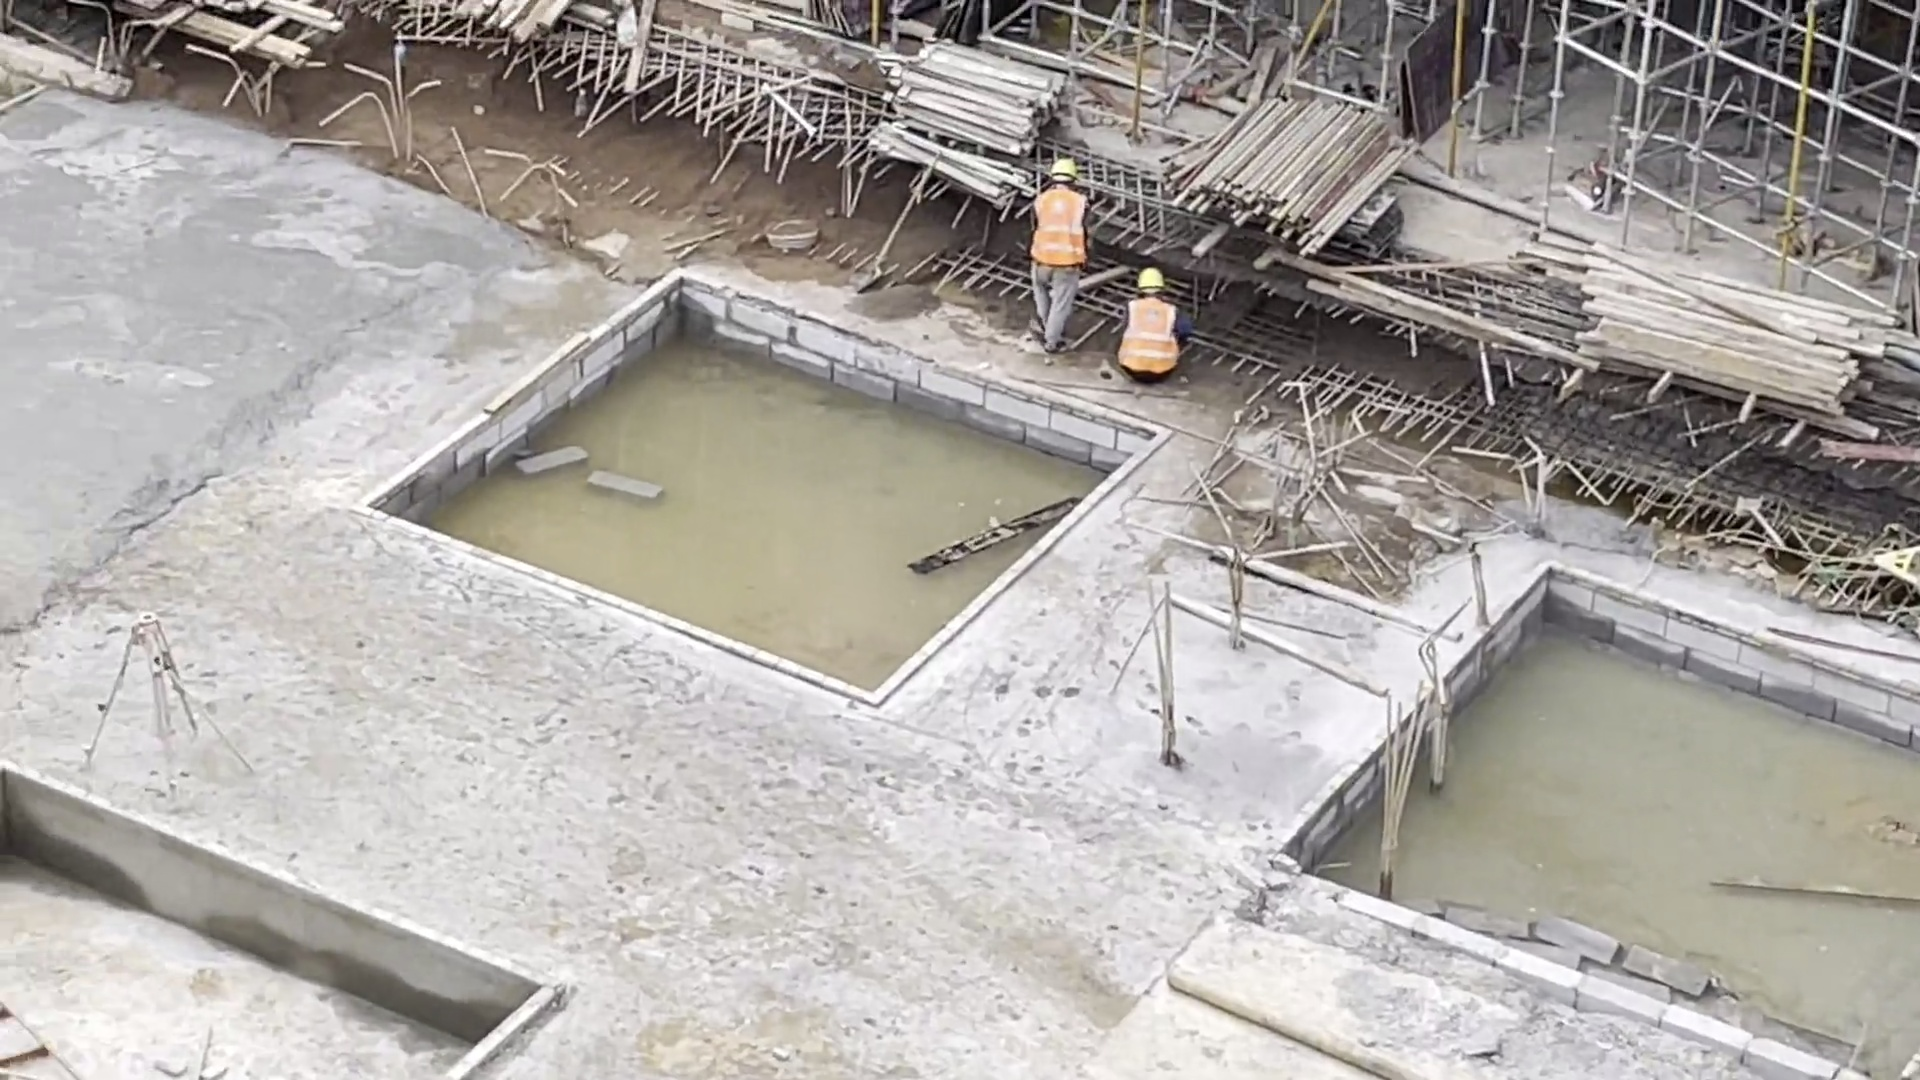helmet: (1135, 267, 1165, 295), (1049, 160, 1078, 185)
person: (1028, 159, 1097, 361), (1117, 268, 1184, 392)
vest: (1119, 297, 1178, 377), (1030, 188, 1088, 267)
